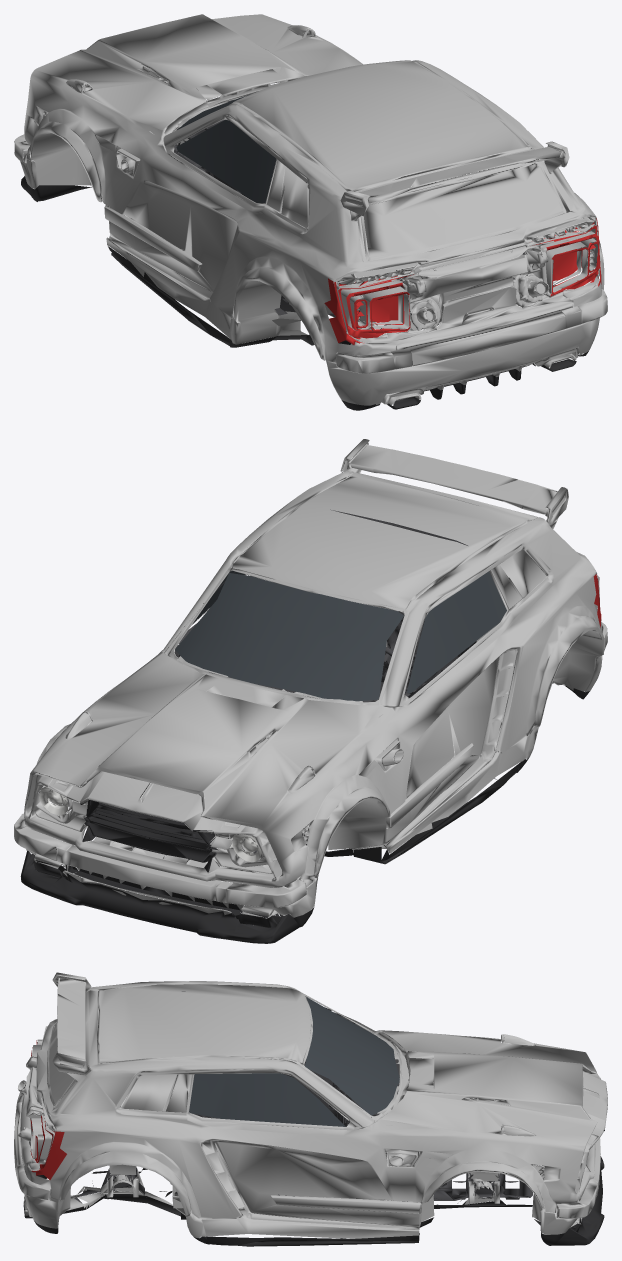
3 views of the same model, one above another, from view 1: azimuth 30°, elevation 25°; view 2: azimuth 150°, elevation 25°; view 3: azimuth 270°, elevation 25° (orthographic). The views are drawn at different scales.
Bounding box in the file's own units: 2.28 × 1.51 × 4.49.
